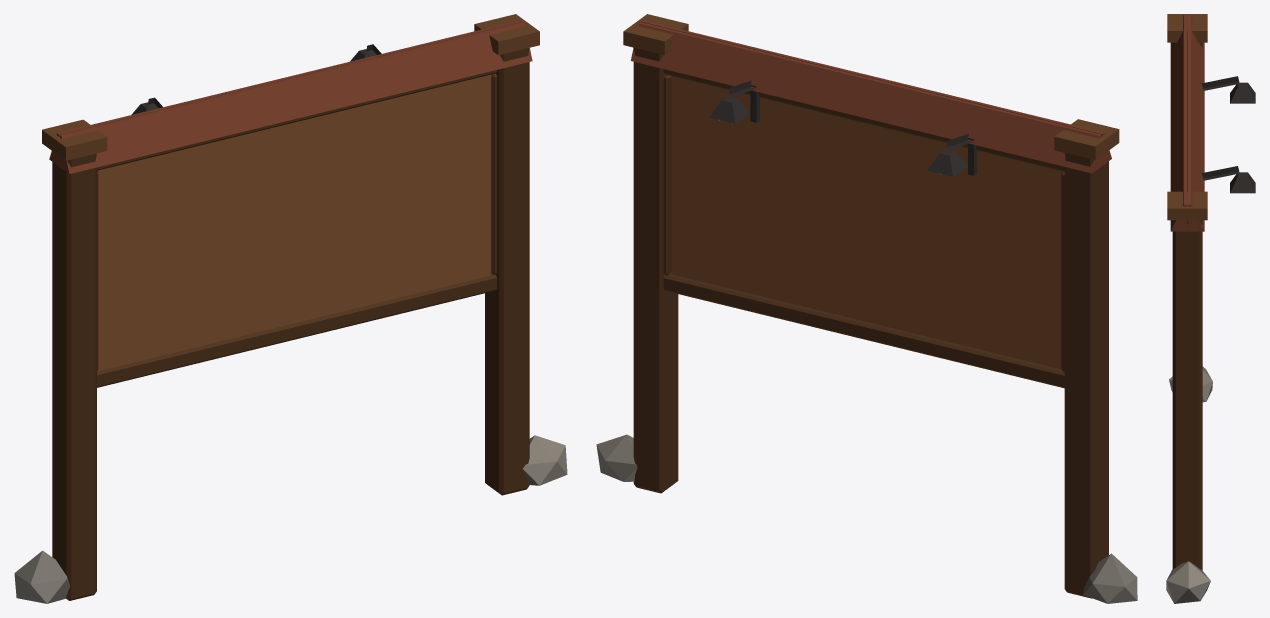
File: Signpost.glb
3 views of the same model, side by side, from view 1: azimuth 30°, elevation 25°; view 2: azimuth 150°, elevation 25°; view 3: azimuth 270°, elevation 25° (orthographic). The views are drawn at different scales.
Visible parts, largest first — view 1: Board, Body; view 2: Board, Body; view 3: Body.
Boxes of the visible parts, x1=… form: Board: x1=97, y1=74, x2=491, y2=371; Body: x1=14, y1=14, x2=567, y2=603; Board: x1=672, y1=76, x2=1062, y2=369; Body: x1=596, y1=14, x2=1137, y2=603; Body: x1=1166, y1=14, x2=1255, y2=603.
Size of what is drawn, in the model's own units: 12.5 by 10.1 by 2.1.
